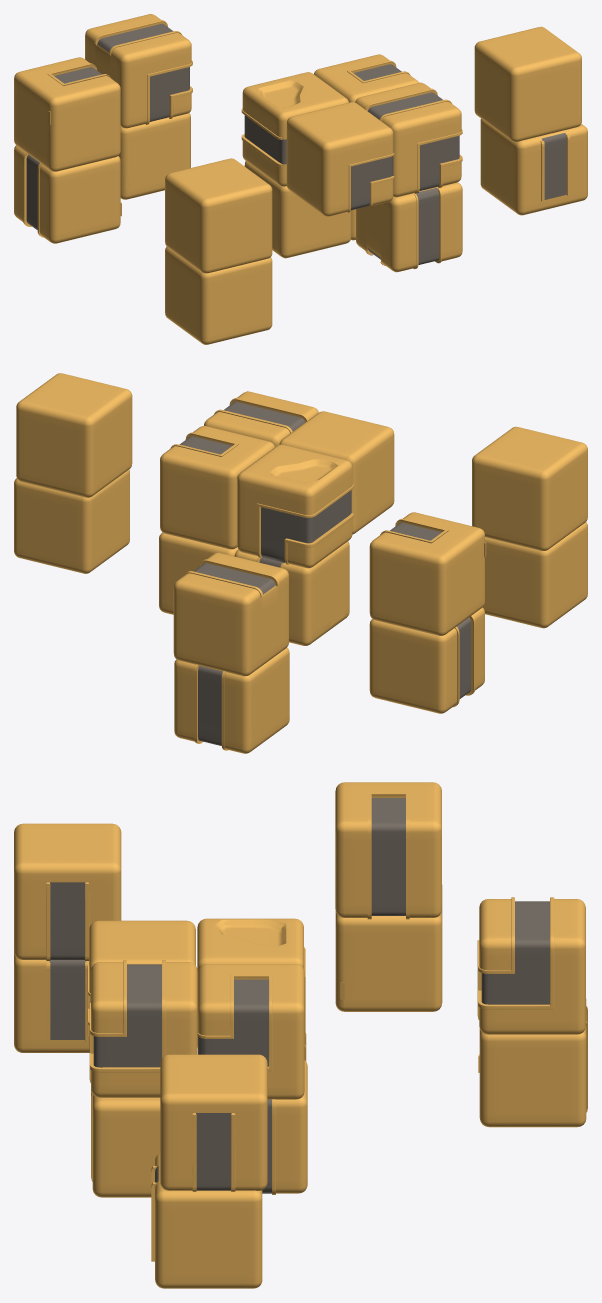
Rendered from Cubesforyellowlevel.fbx.
3 renders of one model, top to bottom at view 1: azimuth 30°, elevation 25°; view 2: azimuth 150°, elevation 25°; view 3: azimuth 270°, elevation 25°, orthographic. The views are drawn at different scales.
Parts seen in each view (by area): view 1: pasted__pasted__pCube26 (×2), pasted__pCube4, pasted__pCube1, pasted__pasted__pCube30, pasted__pasted__pCube527, pasted__pasted__pCube528, pasted__pCube2, pasted__pCube3, pasted__pasted__pCube23, pasted__pasted__pCube24, pasted__pasted__pCube27, pasted__pasted__pCube25 (+1 smaller); view 2: pasted__pasted__pCube26 (×2), pasted__pCube1, pasted__pasted__pCube527, pasted__pasted__pCube27, pasted__pCube4, pasted__pasted__pCube528, pasted__pasted__pCube22, pasted__pCube2, pasted__pCube3, pasted__pasted__pCube30, pasted__pasted__pCube25, pasted__pasted__pCube23 (+1 smaller); view 3: pasted__pasted__pCube26 (×2), pasted__pCube1, pasted__pasted__pCube528, pasted__pasted__pCube527, pasted__pCube4, pasted__pasted__pCube23, pasted__pasted__pCube22, pasted__pCube2, pasted__pCube3, pasted__pasted__pCube24, pasted__pasted__pCube27, pasted__pasted__pCube30 (+1 smaller).
Boxes of the visible parts, box(x1,y1,x2,y2) form: pasted__pasted__pCube26 (×2): box(14, 113, 190, 243); pasted__pCube4: box(165, 158, 272, 273); pasted__pCube1: box(474, 26, 581, 142); pasted__pasted__pCube30: box(286, 102, 394, 216); pasted__pasted__pCube527: box(14, 57, 120, 171); pasted__pasted__pCube528: box(85, 14, 192, 128); pasted__pCube2: box(480, 118, 587, 215); pasted__pCube3: box(165, 246, 272, 344); pasted__pasted__pCube23: box(355, 82, 462, 197); pasted__pasted__pCube24: box(356, 182, 462, 272); pasted__pasted__pCube27: box(241, 72, 348, 186); pasted__pasted__pCube25: box(244, 161, 351, 258); pasted__pasted__pCube26 (×2): box(174, 607, 484, 753); pasted__pCube1: box(16, 373, 132, 497); pasted__pasted__pCube527: box(369, 512, 486, 635); pasted__pasted__pCube27: box(237, 444, 353, 568); pasted__pCube4: box(472, 426, 587, 550); pasted__pasted__pCube528: box(173, 552, 288, 676); pasted__pasted__pCube22: box(160, 426, 274, 549); pasted__pCube2: box(14, 469, 129, 573); pasted__pCube3: box(482, 522, 587, 628); pasted__pasted__pCube30: box(279, 411, 394, 534); pasted__pasted__pCube25: box(234, 541, 349, 645); pasted__pasted__pCube23: box(204, 391, 318, 446); pasted__pasted__pCube26 (×2): box(335, 885, 587, 1127); pasted__pCube1: box(160, 1054, 267, 1191); pasted__pasted__pCube528: box(477, 897, 585, 1034); pasted__pasted__pCube527: box(335, 782, 441, 919); pasted__pCube4: box(14, 823, 121, 960); pasted__pasted__pCube23: box(89, 960, 197, 1097); pasted__pasted__pCube22: box(197, 964, 304, 1099); pasted__pCube2: box(151, 1153, 262, 1288); pasted__pCube3: box(14, 952, 89, 1052); pasted__pasted__pCube24: box(91, 1089, 160, 1197); pasted__pasted__pCube27: box(197, 918, 305, 1047); pasted__pasted__pCube30: box(87, 920, 195, 1048).
Size of the model in its own units: 118 by 42.08 by 95.8.
